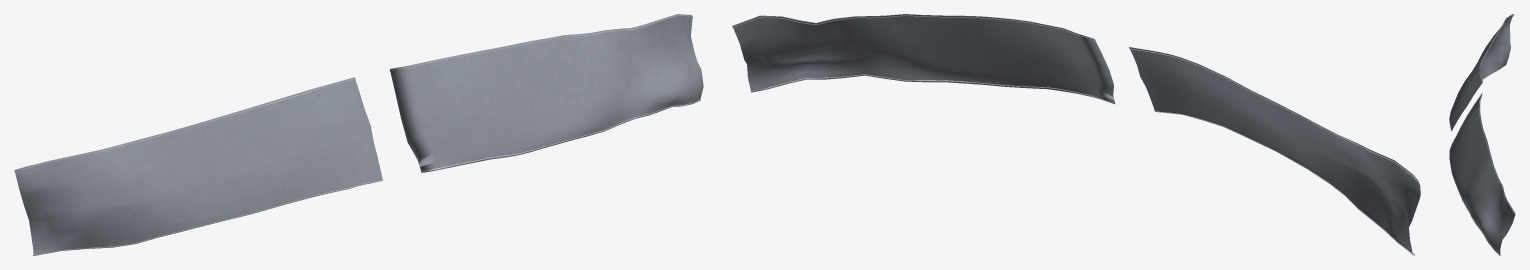
Rendered from Jac_Flic_TOP.glb.
3 renders of one model, left to right at view 1: azimuth 30°, elevation 25°; view 2: azimuth 150°, elevation 25°; view 3: azimuth 270°, elevation 25°, orthographic. The views are drawn at different scales.
Parts seen in each view (by area): view 1: Jac_Flic_TOP.001, Jac_Rope_Flic_TOP.001; view 2: Jac_Flic_TOP.001, Jac_Rope_Flic_TOP.001; view 3: Jac_Flic_TOP.001, Jac_Rope_Flic_TOP.001.
Part boxes in pixels (x1,y1,x2,y2): Jac_Flic_TOP.001: [14, 14, 703, 255]; Jac_Rope_Flic_TOP.001: [16, 15, 700, 255]; Jac_Flic_TOP.001: [732, 14, 1420, 255]; Jac_Rope_Flic_TOP.001: [732, 15, 1417, 255]; Jac_Flic_TOP.001: [1449, 14, 1515, 255]; Jac_Rope_Flic_TOP.001: [1449, 15, 1514, 255].
Size of the model in its own units: 0.7373 by 0.1274 by 0.1076.
2 materials, 2 textured.
